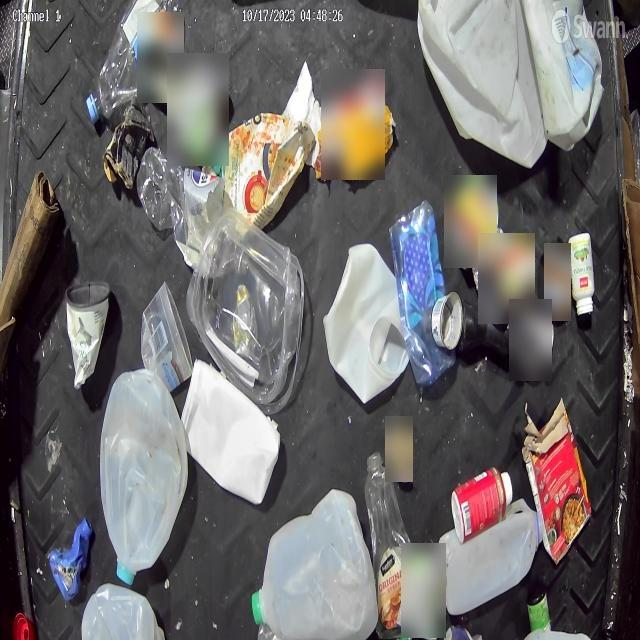milk_jug: (421, 0, 553, 168), (99, 366, 189, 584), (253, 486, 376, 638), (438, 497, 544, 616), (324, 242, 404, 398), (520, 1, 604, 144), (82, 584, 164, 640)
plastic_bottle: (364, 448, 414, 636), (88, 2, 154, 124)
